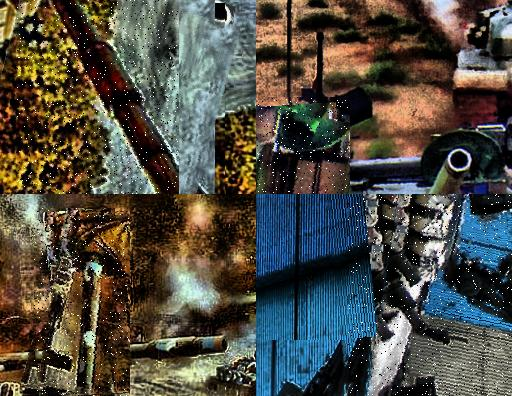tanks: (363, 195, 512, 396), (270, 89, 512, 195), (48, 1, 179, 195), (36, 210, 130, 396), (257, 108, 351, 195), (454, 1, 512, 127)
